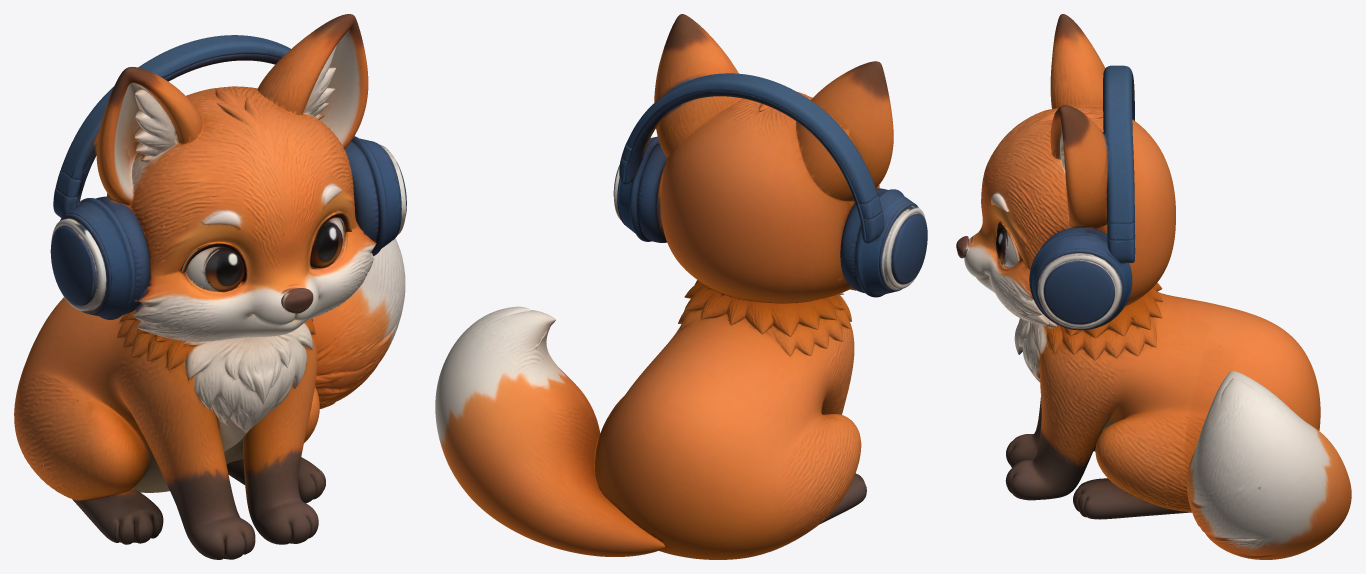
Rendered from fox-web.glb.
3 views of the same model, side by side, from view 1: azimuth 30°, elevation 25°; view 2: azimuth 150°, elevation 25°; view 3: azimuth 270°, elevation 25° (orthographic). The views are drawn at different scales.
Visible parts, largest first — view 1: node_0; view 2: node_0; view 3: node_0.
Boxes of the visible parts, x1,y1,x2,y2 form: node_0: (14, 14, 406, 559); node_0: (435, 14, 927, 559); node_0: (956, 14, 1351, 559).
Bounding box in the file's own units: 0.8486 × 0.9187 × 0.7829.
Materials: 1 (1 with a texture image).
